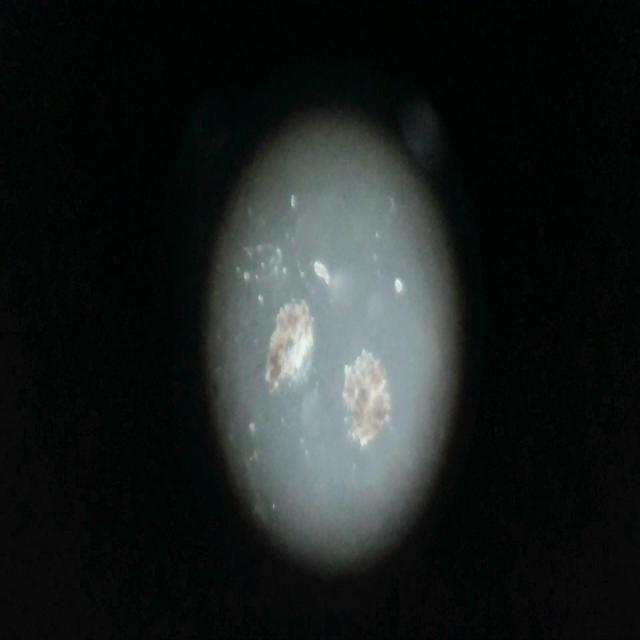alexandrium: (342, 343, 394, 462), (264, 286, 314, 408)
